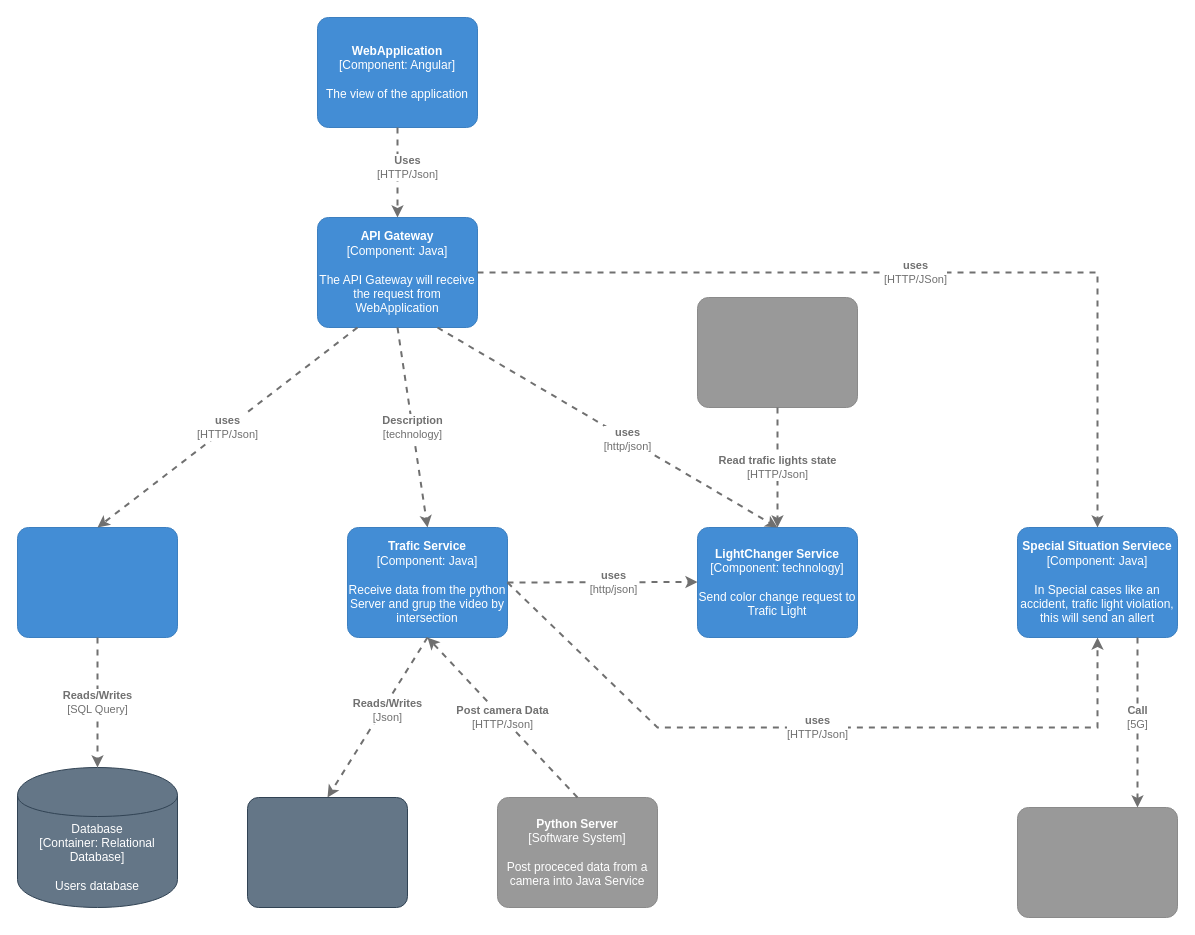
The diagram is 1195 pixels wide and 935 high, and some of its shapes have lost their labels. The centre of each missing label's shape, as x and y in pixels:
"IntersectionsData [Container: JSon] Store data about all intersections" goes at point (327, 852).
"Phone Service [Software System] Phone Service" goes at point (1097, 862).
"Trafic Light [Software System] Trafic light" goes at point (777, 352).
"User Service [Component: Java] Responsible for creating new user, login" goes at point (97, 582).
